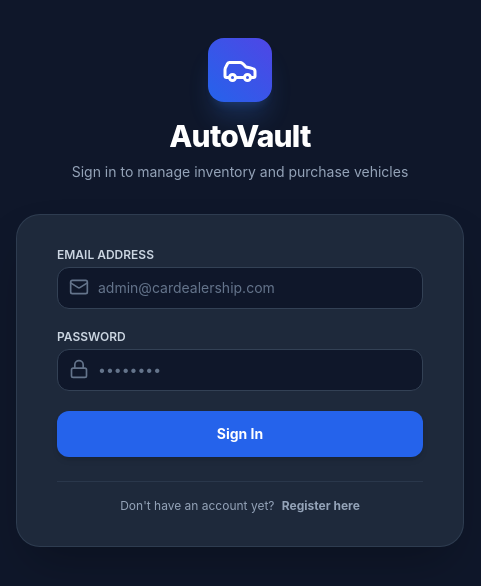
Test: Form Validation Component Tests › validates required fields on Login form submission
This screenshot has width=481, height=586.
Step 1. Click the button "Sign In" → coordinates (240, 434), box [57,410,423,456]
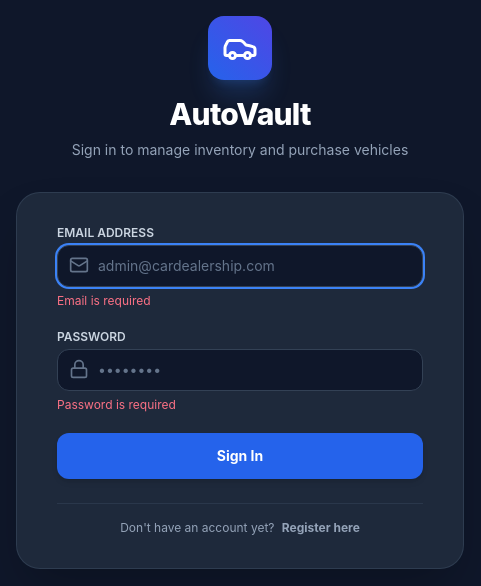
Expected: the text "Email is required" is shown, [57,292,151,308]
Expected: the text "Password is required" is shown, [57,396,176,412]
